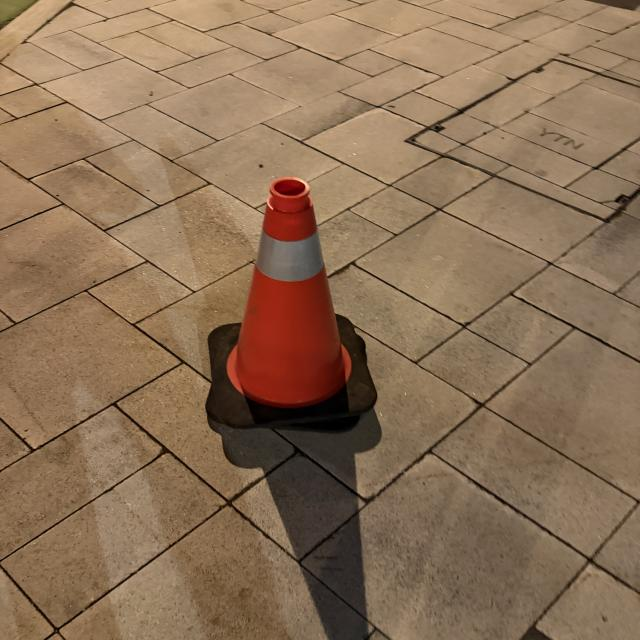Traffic Cone: (206, 176, 376, 432)
